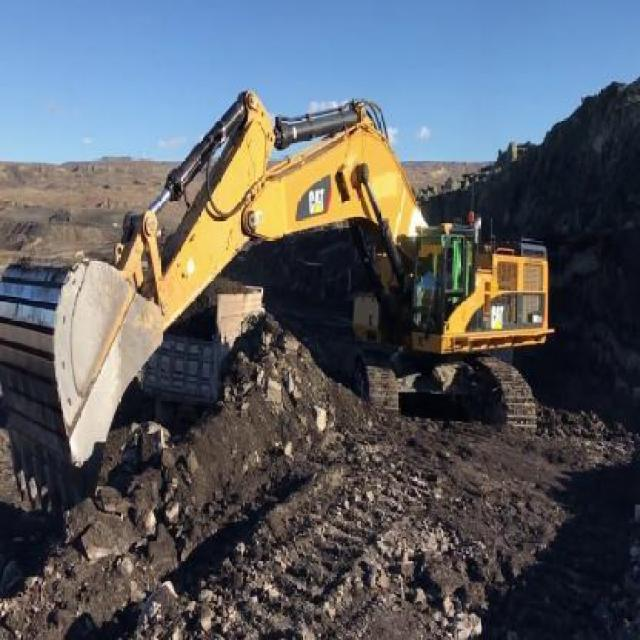Dump Truck: (144, 278, 264, 420)
Excavator: (0, 83, 555, 510)
